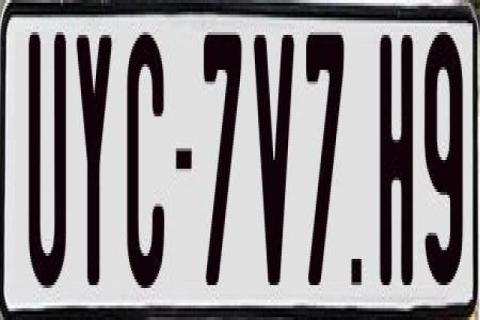0: (202, 32, 244, 300), (422, 26, 462, 288), (303, 32, 341, 282)
C: (126, 29, 167, 297)
H: (379, 26, 414, 276)
U: (28, 29, 70, 297)
V: (253, 26, 293, 276)
Y: (73, 35, 111, 299)
